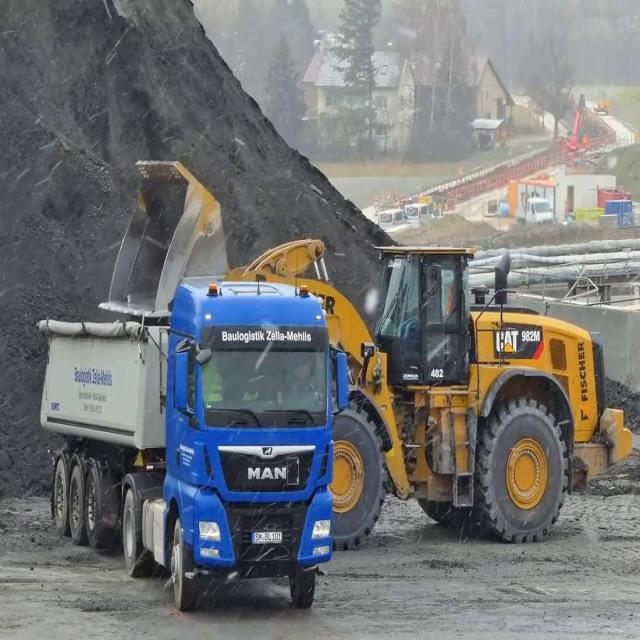Dump Truck: (36, 276, 350, 610)
Loader: (97, 153, 634, 554)
